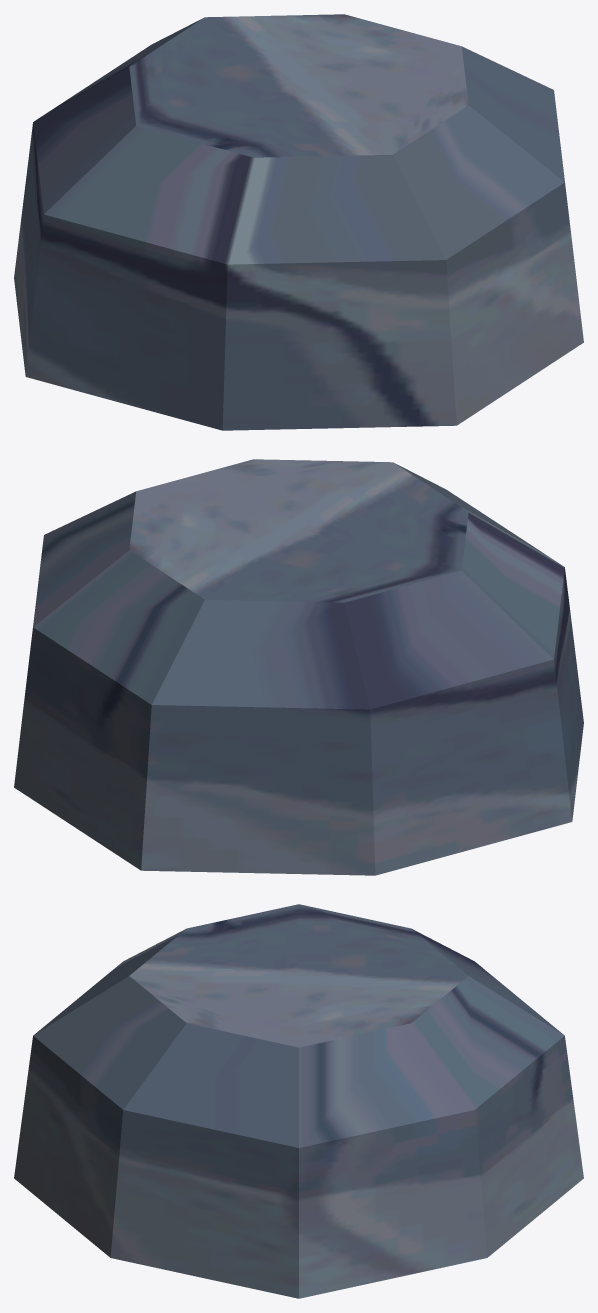
File: Rock 1.fbx
The picture shows the model from 3 angles, top to bottom: view 1: azimuth 30°, elevation 25°; view 2: azimuth 150°, elevation 25°; view 3: azimuth 270°, elevation 25°; orthographic projection. The views are drawn at different scales.
Parts seen in each view (by area): view 1: Cube.002; view 2: Cube.002; view 3: Cube.002.
Part boxes in pixels (x1,y1,x2,y2): Cube.002: (14,14,583,430); Cube.002: (14,459,583,875); Cube.002: (14,904,583,1298).
Size of the model in its own units: 92.26 by 36.17 by 92.26.
1 material, 1 textured.
